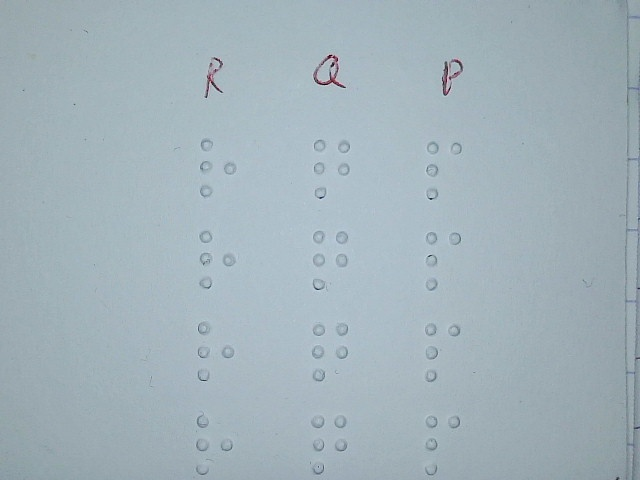Q: (312, 137, 352, 200), (310, 228, 350, 291), (310, 320, 350, 383), (309, 412, 349, 475), (424, 139, 464, 202), (423, 228, 463, 291), (423, 320, 463, 383), (423, 414, 463, 477)
R: (198, 136, 238, 199), (194, 413, 234, 476), (198, 228, 238, 291), (195, 318, 235, 381)
